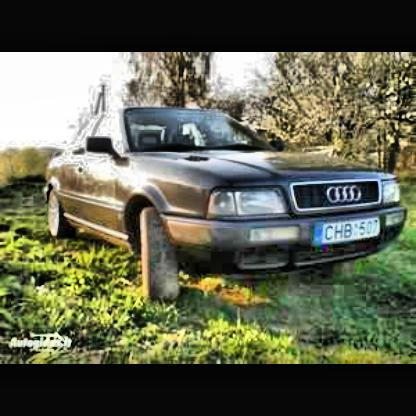Audi 100 Sedan 1994: (42, 105, 416, 314)
